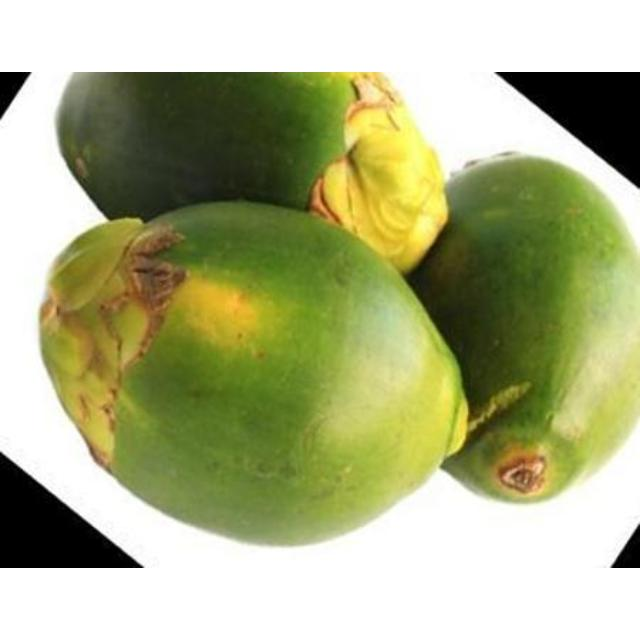good: (37, 200, 469, 550), (55, 72, 452, 290), (404, 154, 639, 506)
